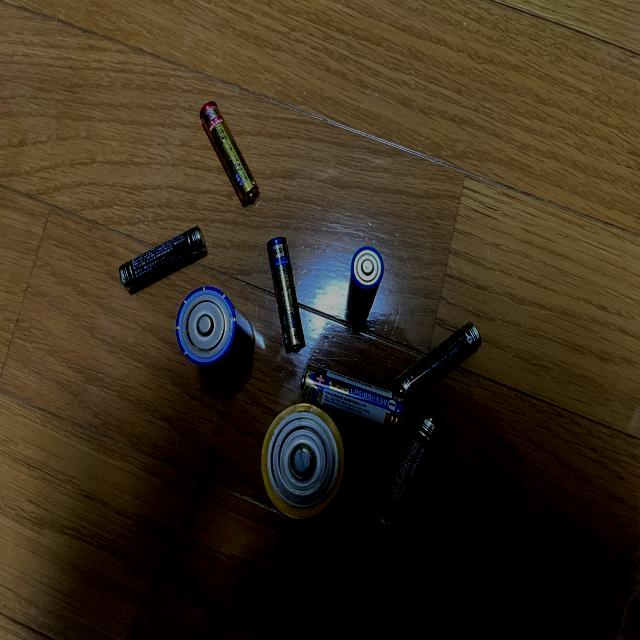AA: (394, 314, 486, 405), (110, 220, 213, 297)
AAA: (194, 98, 261, 208), (262, 226, 310, 356)
